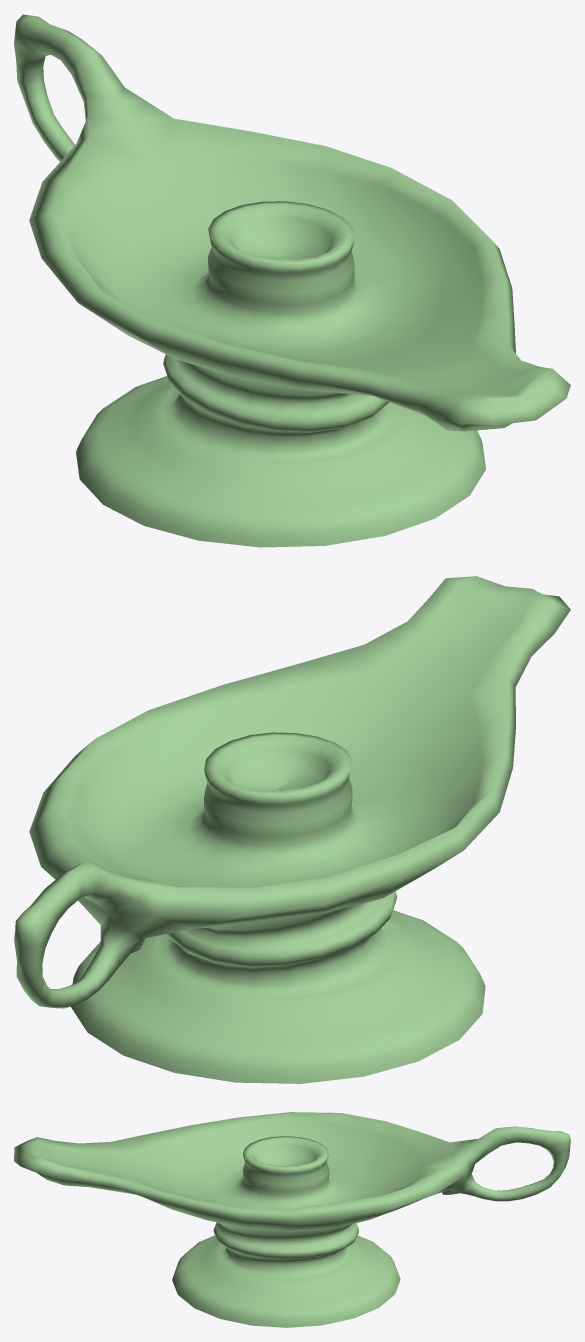
File: Candlestick_low.fbx
The picture shows the model from 3 angles, top to bottom: view 1: azimuth 30°, elevation 25°; view 2: azimuth 150°, elevation 25°; view 3: azimuth 270°, elevation 25°; orthographic projection. The views are drawn at different scales.
Parts seen in each view (by area): view 1: Candlestick_low; view 2: Candlestick_low; view 3: Candlestick_low.
Part boxes in pixels (x1,y1,x2,y2): Candlestick_low: (14,14,570,547); Candlestick_low: (14,576,570,1083); Candlestick_low: (14,1112,570,1327).
Size of what is drawn, in the model's own units: 15.3 by 10.5 by 34.75.
